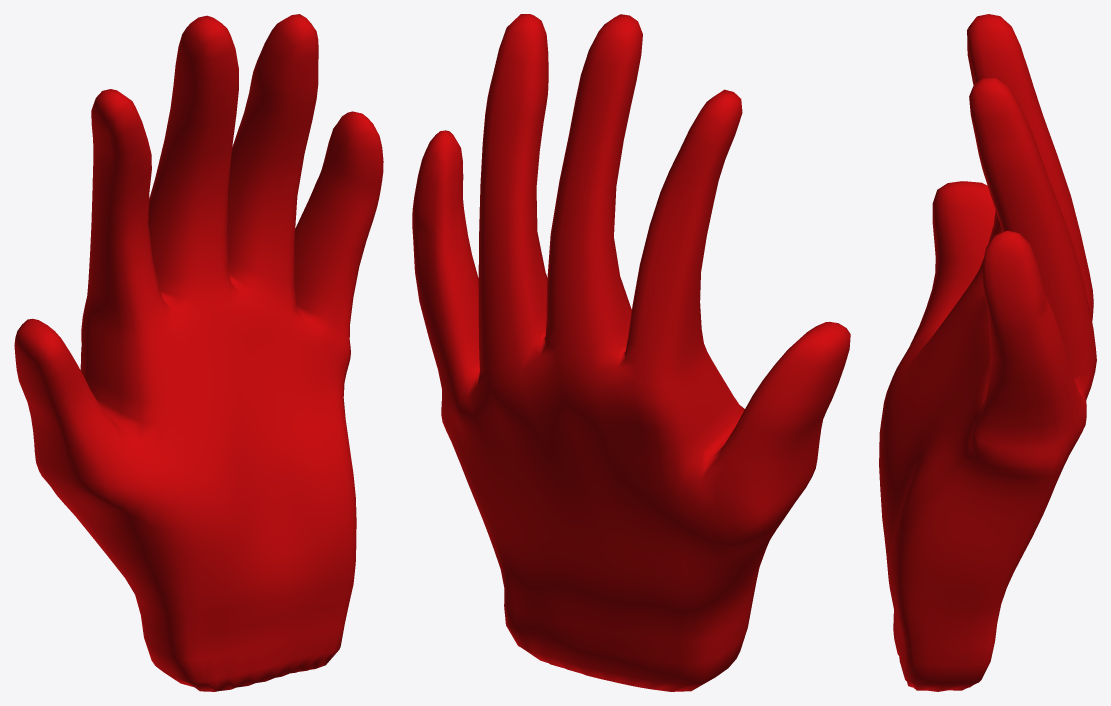
Rendered from hand_red.obj.
3 renders of one model, left to right at view 1: azimuth 30°, elevation 25°; view 2: azimuth 150°, elevation 25°; view 3: azimuth 270°, elevation 25°, orthographic. The views are drawn at different scales.
Parts seen in each view (by area): view 1: Cube; view 2: Cube; view 3: Cube.
Boxes of the visible parts, x1,y1,x2,y2 form: Cube: [14, 14, 383, 691]; Cube: [412, 14, 850, 691]; Cube: [879, 14, 1096, 691].
Size of the model in its own units: 2.71 by 4.47 by 1.38.
